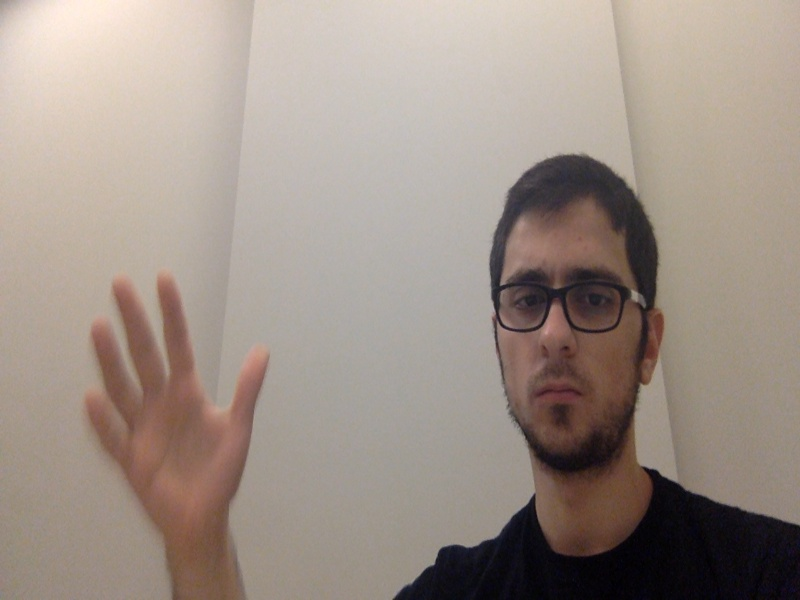5-hand: (84, 269, 273, 537)
